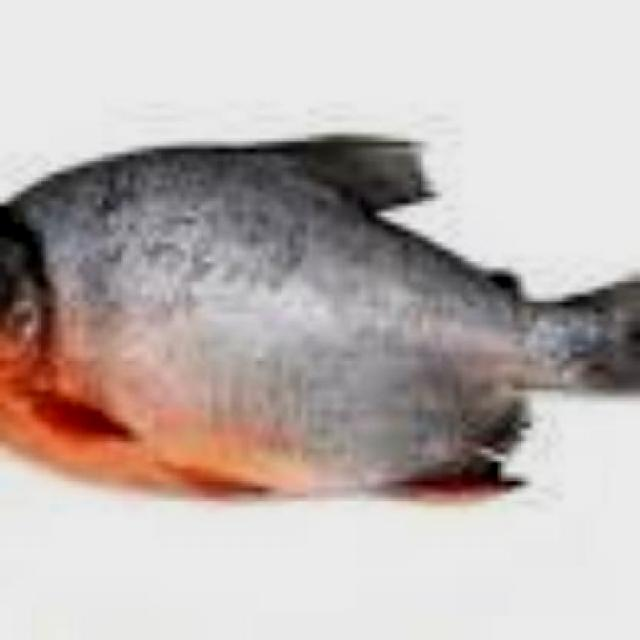ikan-pacu: (0, 140, 600, 491)
